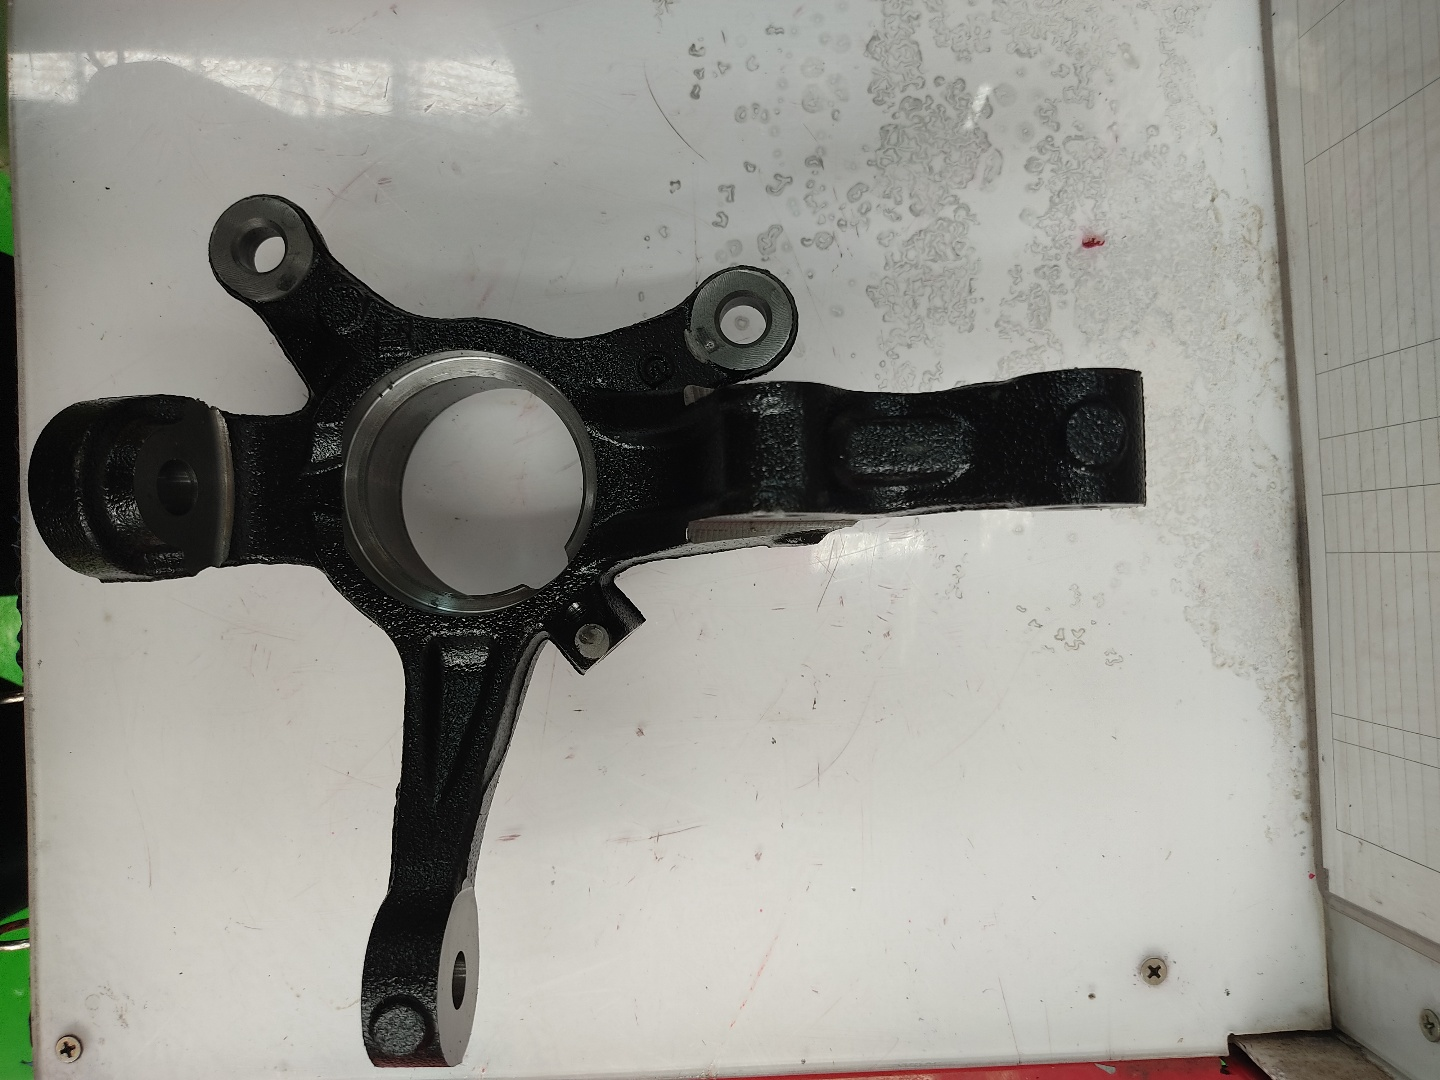abs-rh: (18, 174, 1175, 1074)
